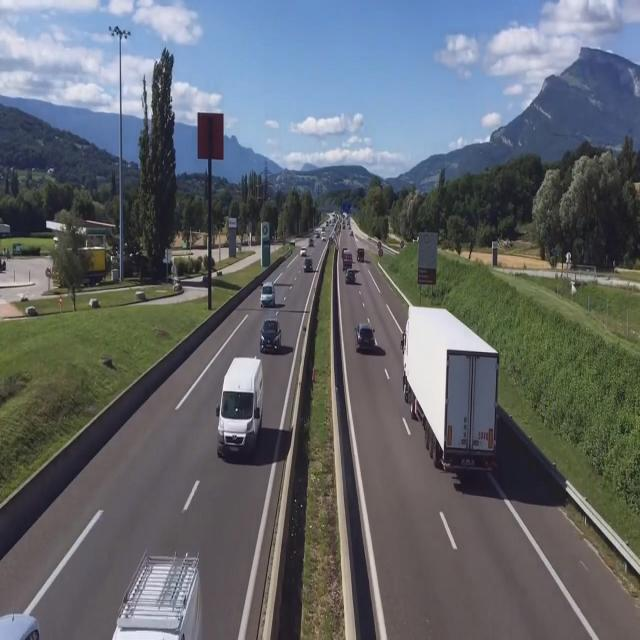bus: (214, 358, 261, 462)
car: (103, 549, 198, 640), (261, 316, 282, 354), (355, 320, 375, 354), (262, 282, 280, 308)
truck: (402, 306, 499, 478)
